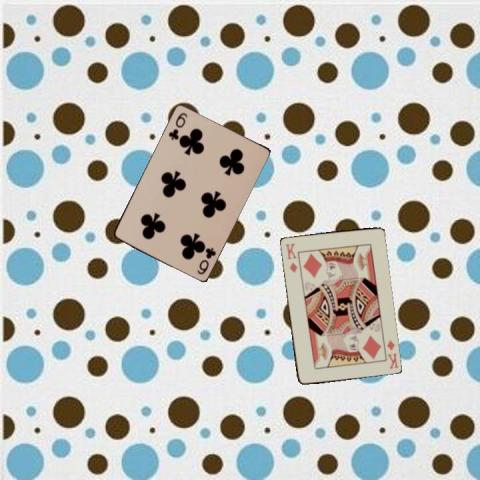6c: (165, 110, 189, 142), (193, 245, 218, 275)
Kd: (282, 240, 299, 274), (384, 337, 400, 370)
